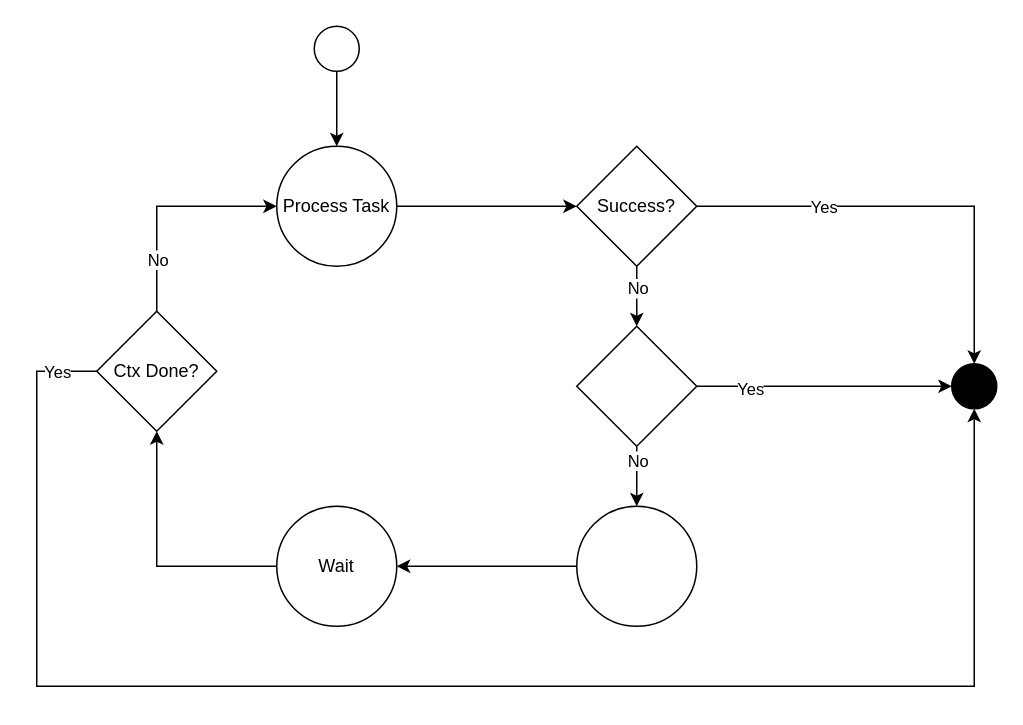
This 1023x725 diagram has some shape labels left out. The centre of each missing label's shape, as x and y in pixels:
"Calculate Delay 2^n * baseDelay + jitter" goes at [636,565].
"Max retries?" goes at [636,385].
